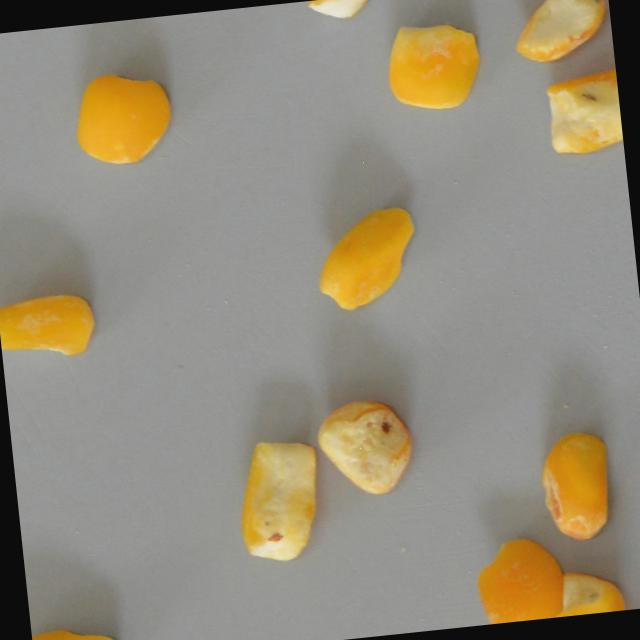dañado: (306, 195, 426, 316), (525, 418, 628, 549), (225, 433, 327, 563), (313, 391, 418, 504), (467, 530, 567, 625), (537, 564, 631, 618)
estandar: (61, 61, 182, 178), (379, 12, 487, 115), (0, 285, 103, 364)
pelicula: (29, 605, 122, 640)
punto_negro: (529, 67, 624, 159), (507, 0, 614, 65), (304, 0, 415, 23)
